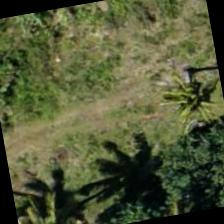Kelapa_Sawit: (142, 40, 223, 143), (12, 178, 105, 223), (13, 180, 106, 223)
